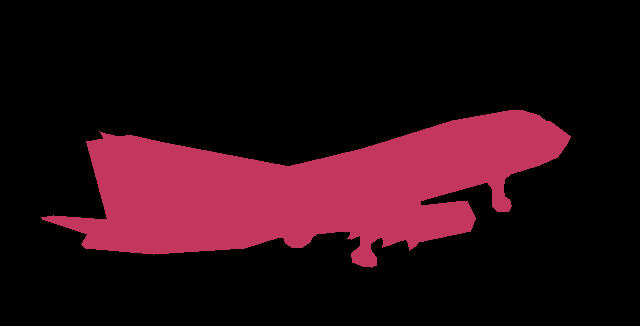Airplane: (41, 110, 570, 268)
